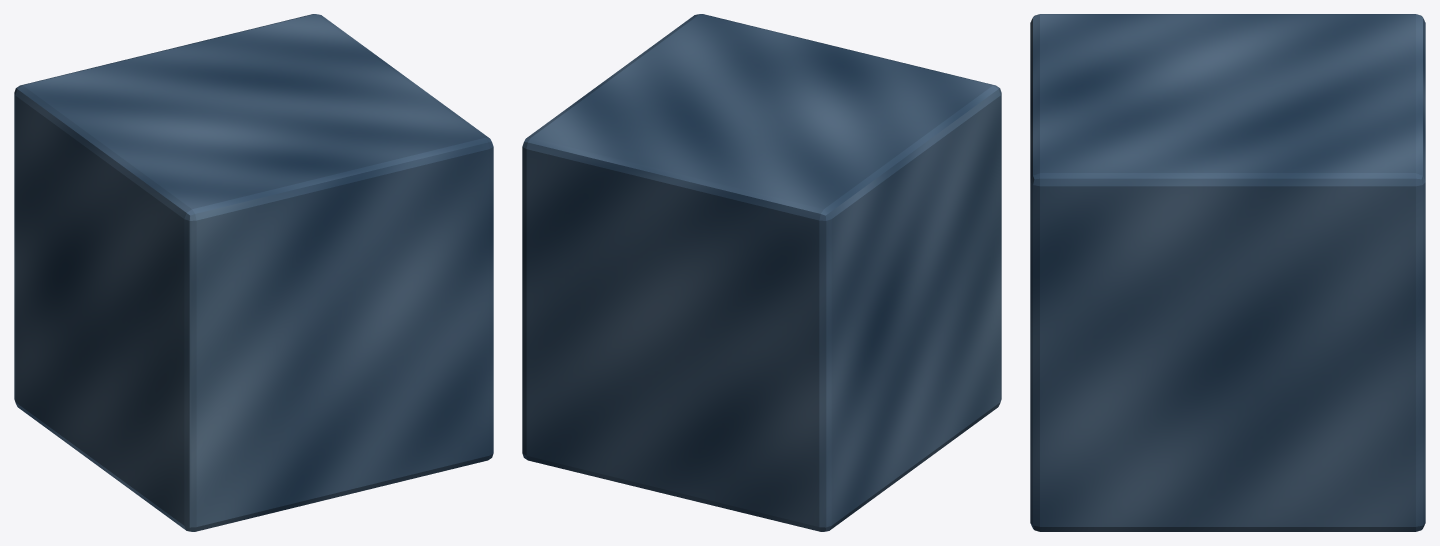
Rendered from 04_RimeplateBlock.glb.
3 renders of one model, left to right at view 1: azimuth 30°, elevation 25°; view 2: azimuth 150°, elevation 25°; view 3: azimuth 270°, elevation 25°, orthographic. The views are drawn at different scales.
Visible parts, largest first — view 1: Part.003; view 2: Part.003; view 3: Part.003.
Boxes of the visible parts, x1,y1,x2,y2 form: Part.003: (14, 14, 493, 531); Part.003: (522, 14, 1001, 531); Part.003: (1030, 14, 1425, 531).
Size of the model in its own units: 4 by 4 by 4.
2 materials, 2 textured.
